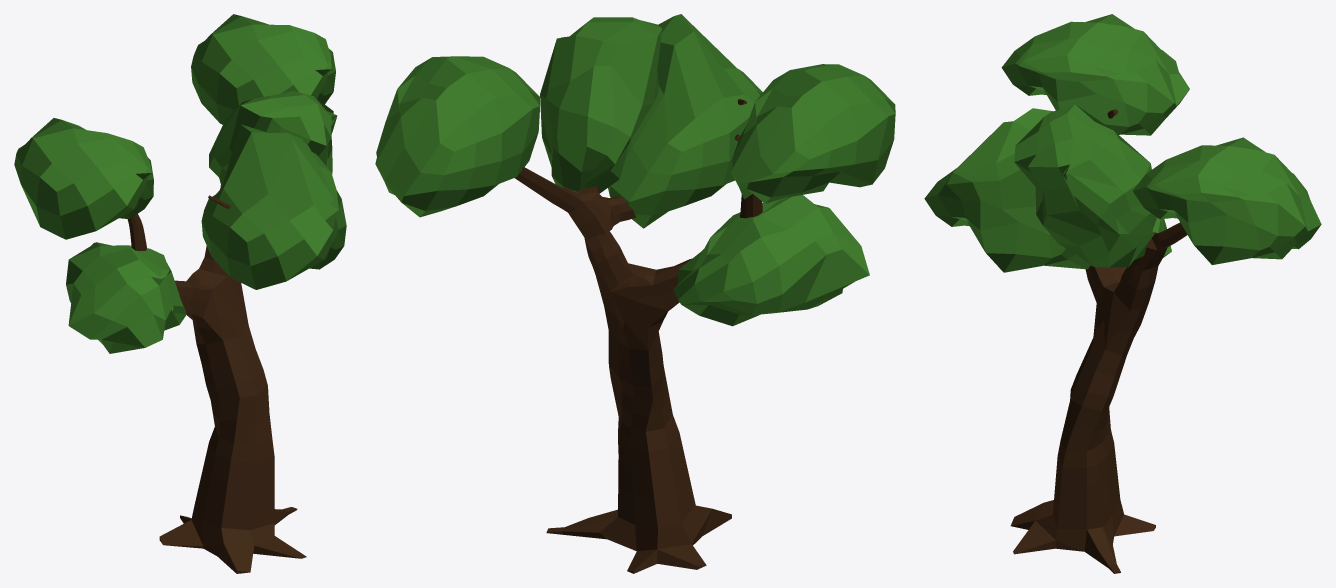
Rendered from Tree_008.fbx.
3 views of the same model, side by side, from view 1: azimuth 30°, elevation 25°; view 2: azimuth 150°, elevation 25°; view 3: azimuth 270°, elevation 25° (orthographic). The views are drawn at different scales.
Visible parts, largest first — view 1: Tree_008; view 2: Tree_008; view 3: Tree_008.
Part boxes in pixels (x1,y1,x2,y2): Tree_008: (14,14,346,573); Tree_008: (375,14,895,573); Tree_008: (924,14,1321,573).
Size of the model in its own units: 619 by 736 by 603.
